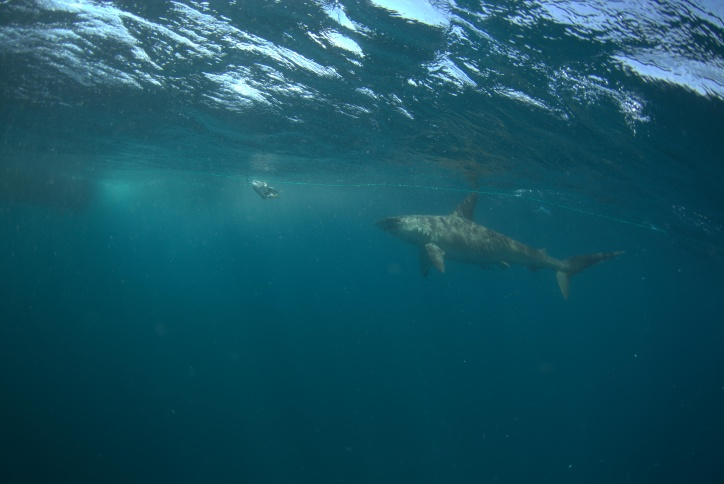Hammer: (345, 178, 660, 322)
